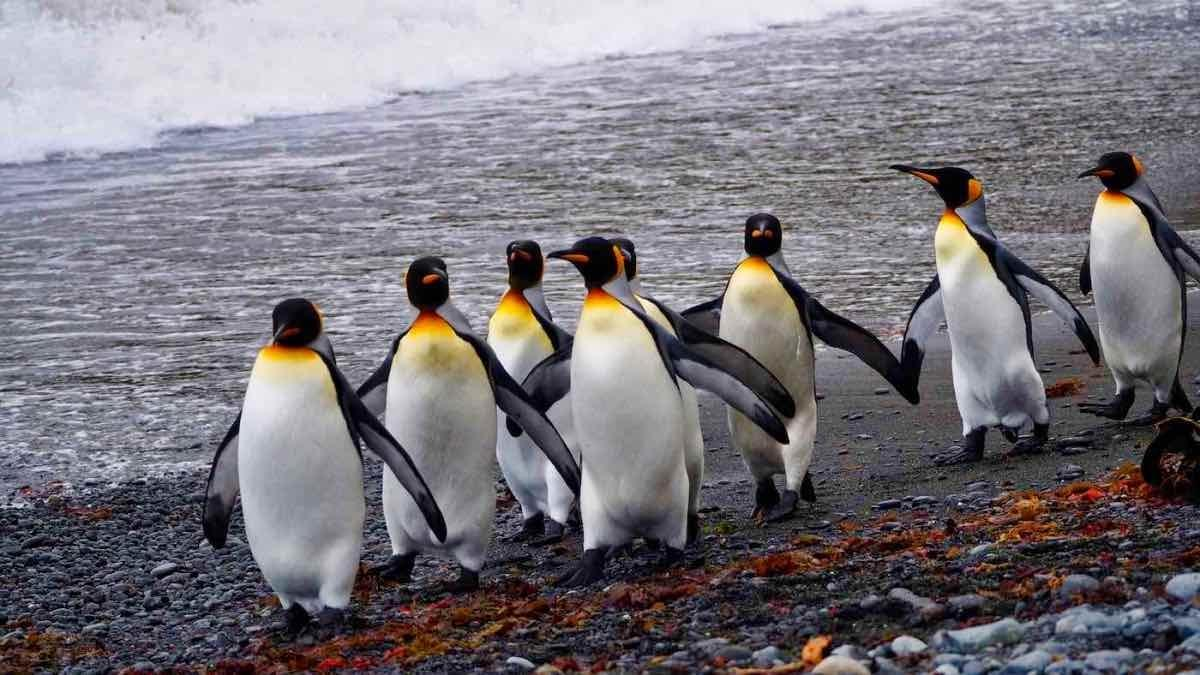Penguin: (523, 237, 789, 585), (202, 297, 448, 632), (679, 213, 920, 522), (356, 256, 578, 590), (892, 164, 1099, 465), (612, 237, 797, 417), (1080, 152, 1198, 420), (488, 239, 572, 381), (497, 409, 574, 543), (678, 378, 703, 543), (545, 394, 579, 465)
